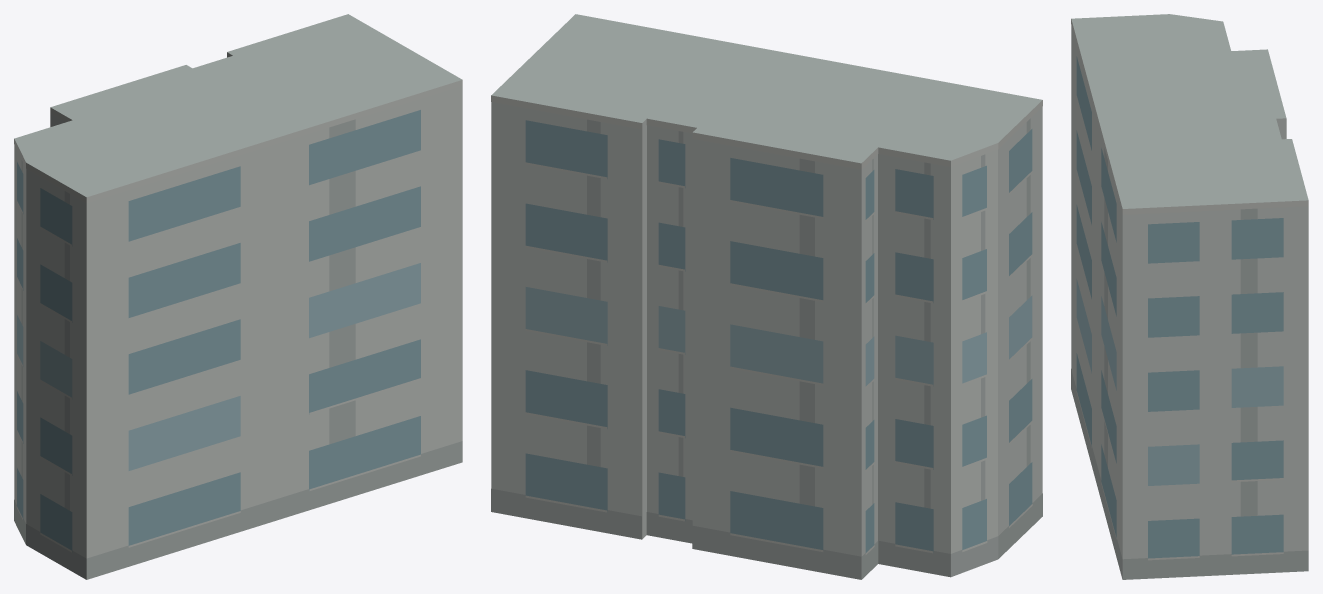
File: survey-upis-32768678.glb
3 renders of one model, left to right at view 1: azimuth 30°, elevation 25°; view 2: azimuth 150°, elevation 25°; view 3: azimuth 270°, elevation 25°, orthographic. The views are drawn at different scales.
Visible parts, largest first — view 1: survey-upis-32768678.tmp; view 2: survey-upis-32768678.tmp; view 3: survey-upis-32768678.tmp.
Part boxes in pixels (box(x1,y1,x2,y2)): survey-upis-32768678.tmp: box(14, 14, 462, 579); survey-upis-32768678.tmp: box(491, 14, 1042, 579); survey-upis-32768678.tmp: box(1071, 14, 1308, 579).
Bounding box in the file's own units: 17.49 × 15.5 × 9.
